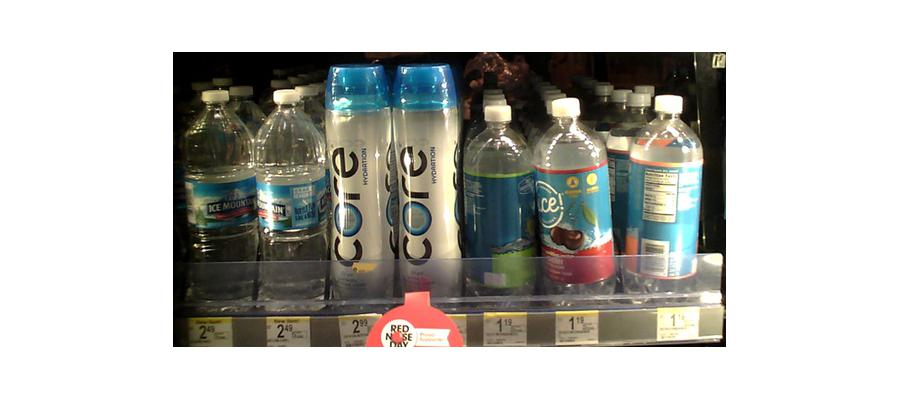bottle: (619, 89, 704, 296), (535, 90, 618, 301), (322, 64, 394, 307), (182, 91, 256, 311), (255, 85, 326, 309), (393, 64, 459, 303), (464, 93, 532, 300)
